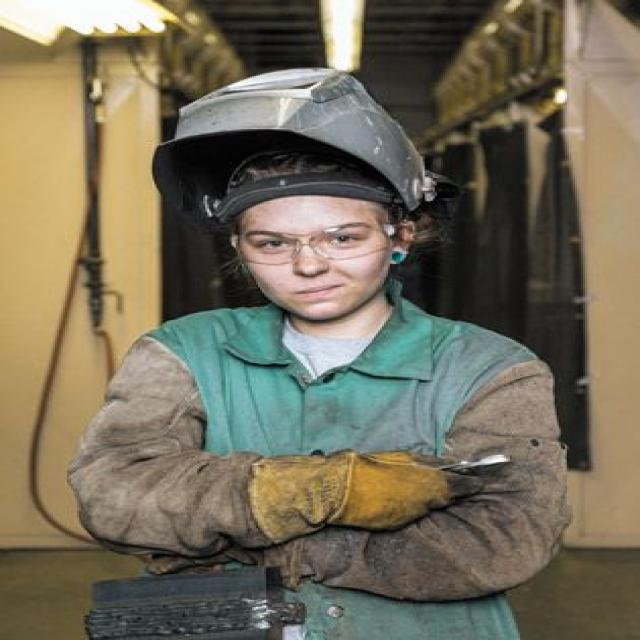helmet_lifted: (147, 68, 434, 318)
without_helmet: (223, 193, 417, 320)
